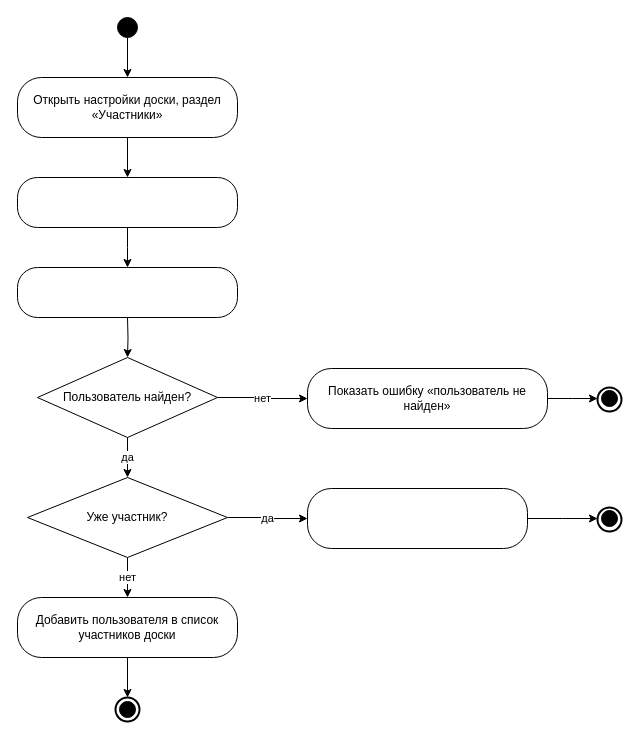
The diagram is 640 pixels wide and 740 high, and some of its shapes have lost their labels. Each missing label, with the centre of its shape:
"Ввести email приглашаемого пользователя" belongs at (x=127, y=202).
"Показать предупреждение" belongs at (x=417, y=518).
"Проверить права доступа" belongs at (x=127, y=292).
